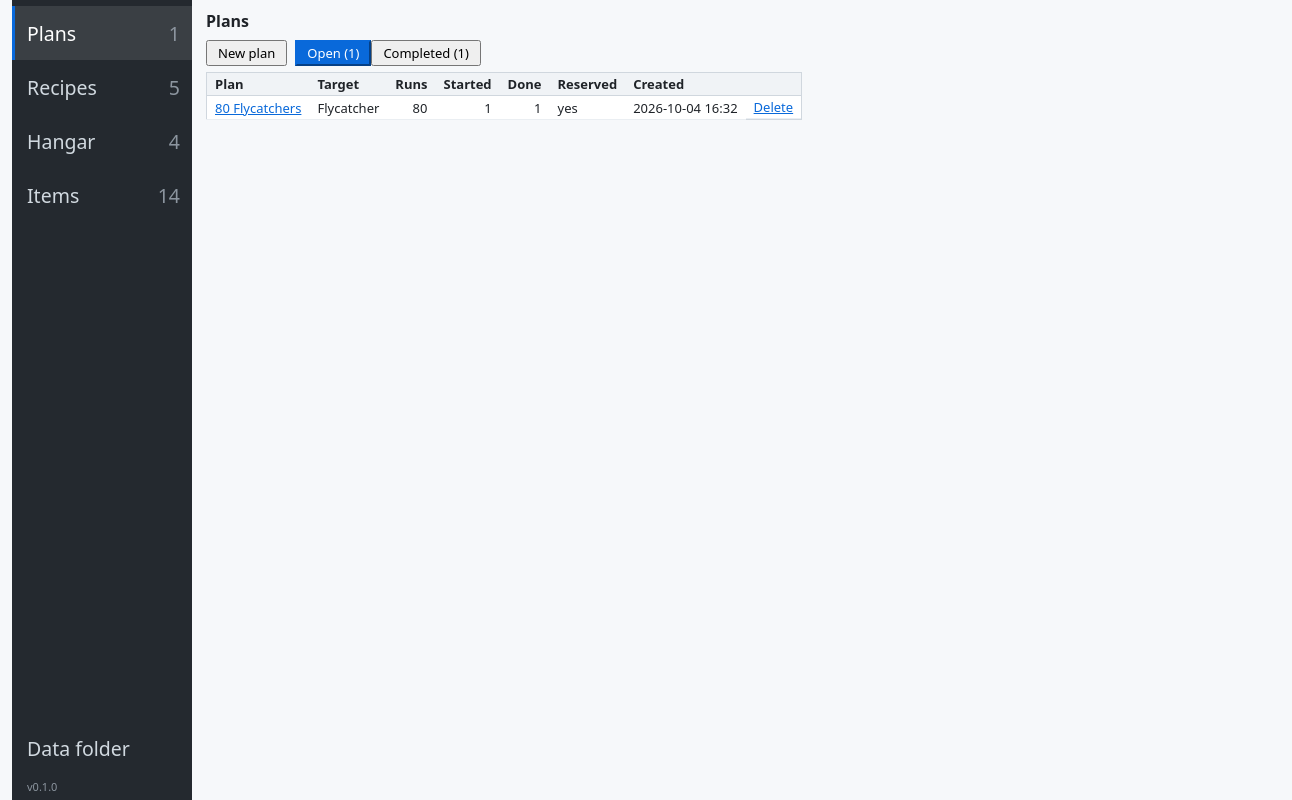
Test: HangarSection › shows available, reserved and total, and names the plan holding the reservation
Click the button "Hangar 4".
click(102, 141)  # box [12,114,192,168]
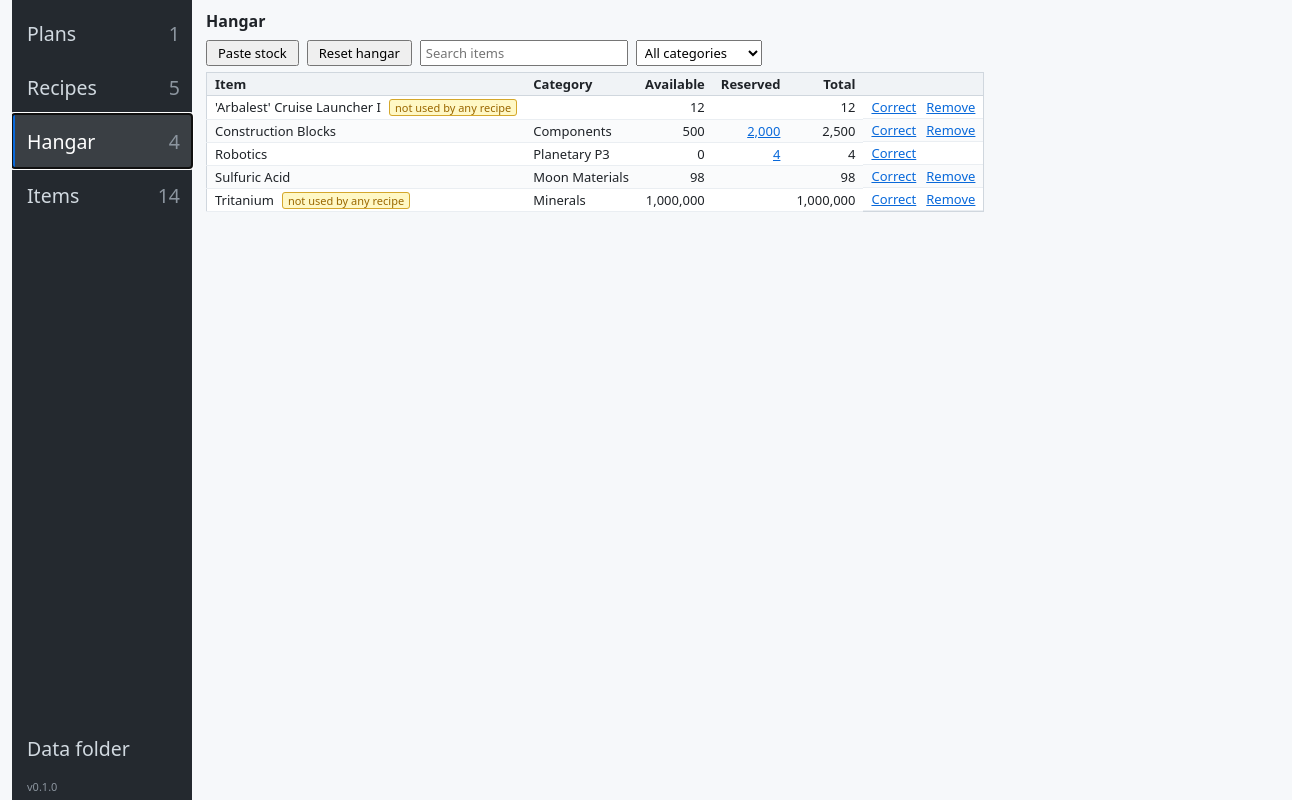
Click the button named "Reserved Construction Blocks".
click(764, 130)  # box [747,122,780,140]
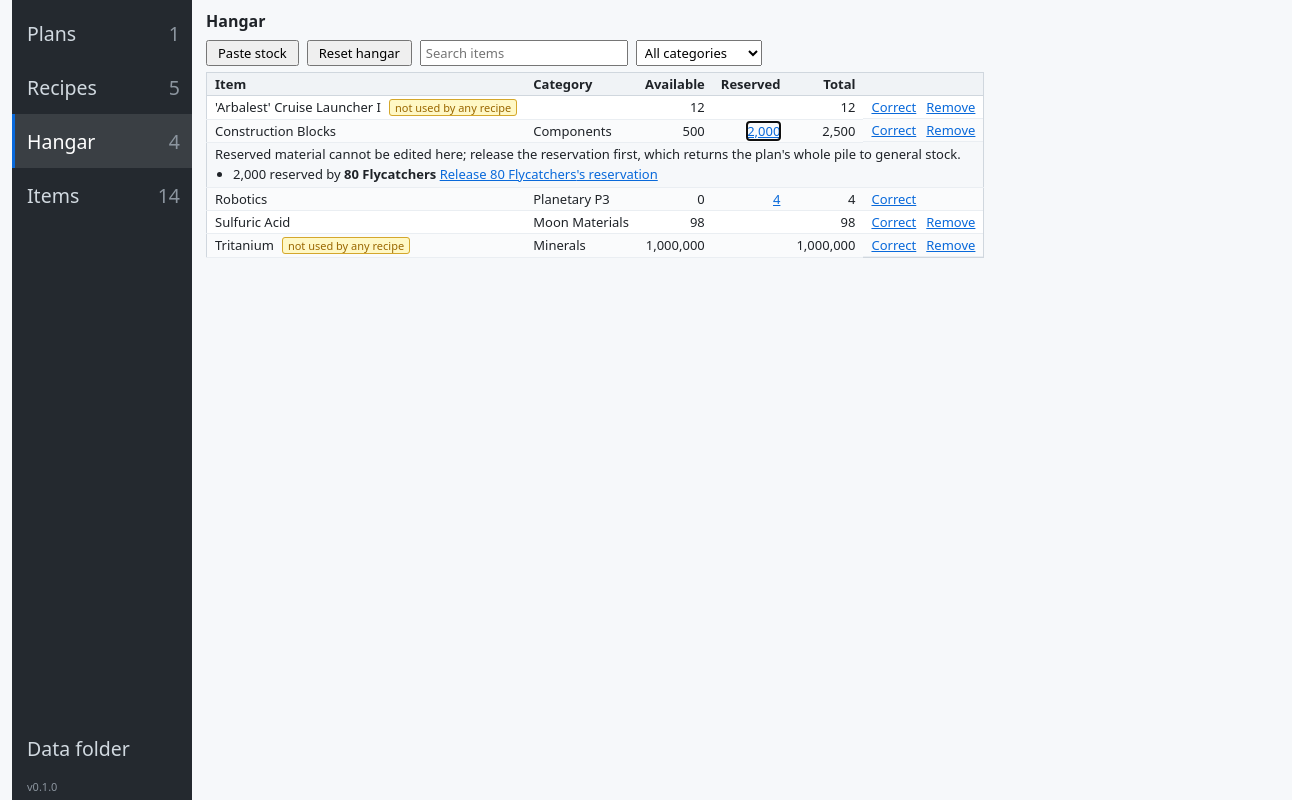
Check: the text "Reserved material cannot be edited here" is shown, box [215,144,961,162]
Check: the text "80 Flycatchers" is shown, box [344,164,436,182]
